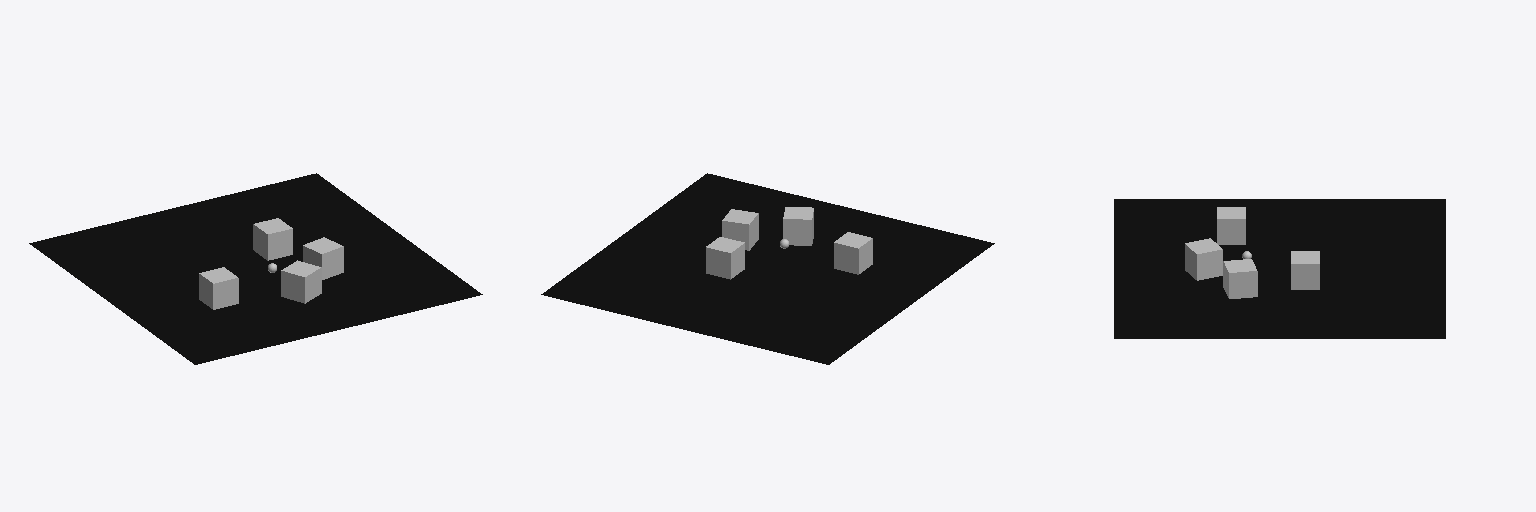
File: testobject5_1.obj
3 renders of one model, left to right at view 1: azimuth 30°, elevation 25°; view 2: azimuth 150°, elevation 25°; view 3: azimuth 270°, elevation 25°, orthographic.
Parts seen in each view (by area): view 1: Plane, Cube.002, Cube, Cube.001, Cube.003; view 2: Plane, Cube, Cube.001, Cube.002, Cube.003; view 3: Plane, Cube.002, Cube.003, Cube, Cube.001.
Part boxes in pixels (left/top/right/bottom): Plane: left=29, top=173, right=482, bottom=364; Cube.002: left=281, top=260, right=321, bottom=303; Cube: left=253, top=218, right=292, bottom=260; Cube.001: left=199, top=267, right=238, bottom=309; Cube.003: left=303, top=237, right=343, bottom=279; Plane: left=541, top=173, right=994, bottom=364; Cube: left=706, top=237, right=744, bottom=279; Cube.001: left=834, top=232, right=872, bottom=274; Cube.002: left=783, top=207, right=813, bottom=245; Cube.003: left=722, top=209, right=758, bottom=250; Plane: left=1114, top=199, right=1445, bottom=338; Cube.002: left=1185, top=238, right=1222, bottom=280; Cube.003: left=1223, top=259, right=1257, bottom=298; Cube: left=1291, top=251, right=1319, bottom=289; Cube.001: left=1217, top=207, right=1245, bottom=244.
Size of the model in its own units: 22.91 by 2 by 22.91.